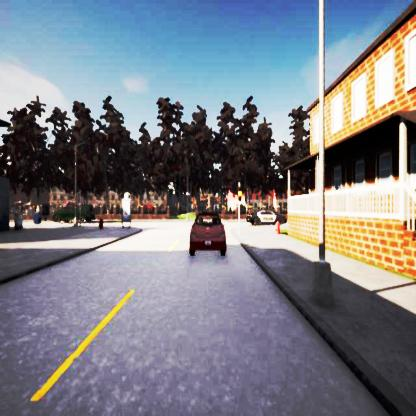vehicle: (188, 212, 225, 255), (254, 210, 275, 223)
